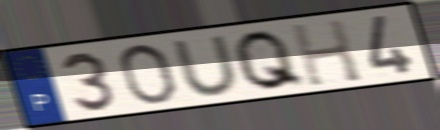3: (58, 48, 119, 114)
4: (367, 12, 416, 77)
H: (287, 17, 365, 89)
O: (115, 41, 180, 106)
Q: (231, 27, 310, 93)
U: (169, 33, 245, 98)
